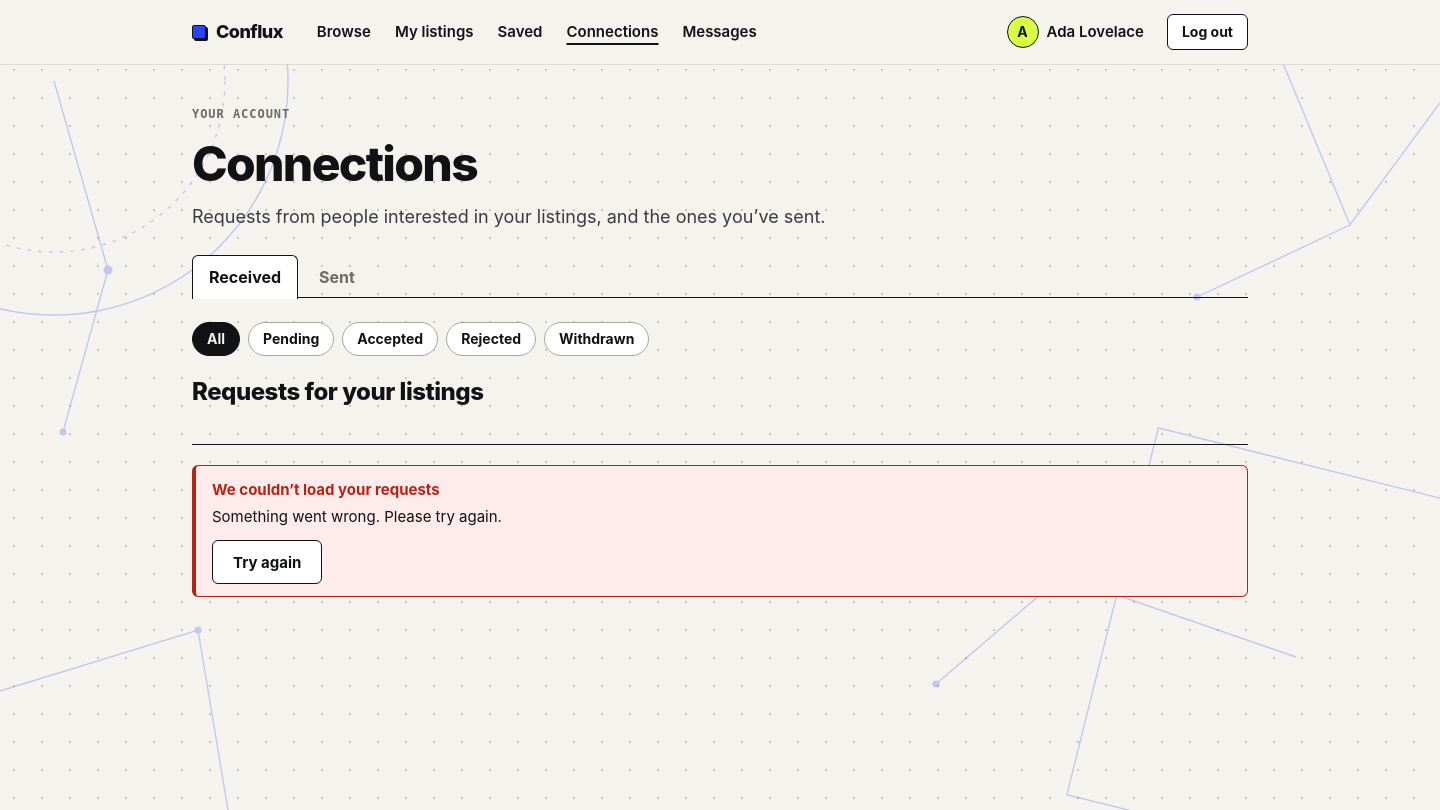
Received requests › shows an error without backend details, with a working retry
Check: the message that starts with "We couldn’t load your requests" is shown, box [212,480,440,499]
Check: the message that starts with "We couldn’t load your requests" shows "Something went wrong. Please try again.", box [212,507,502,526]
Click the button "Try again": (267, 562) [212,540,322,584]
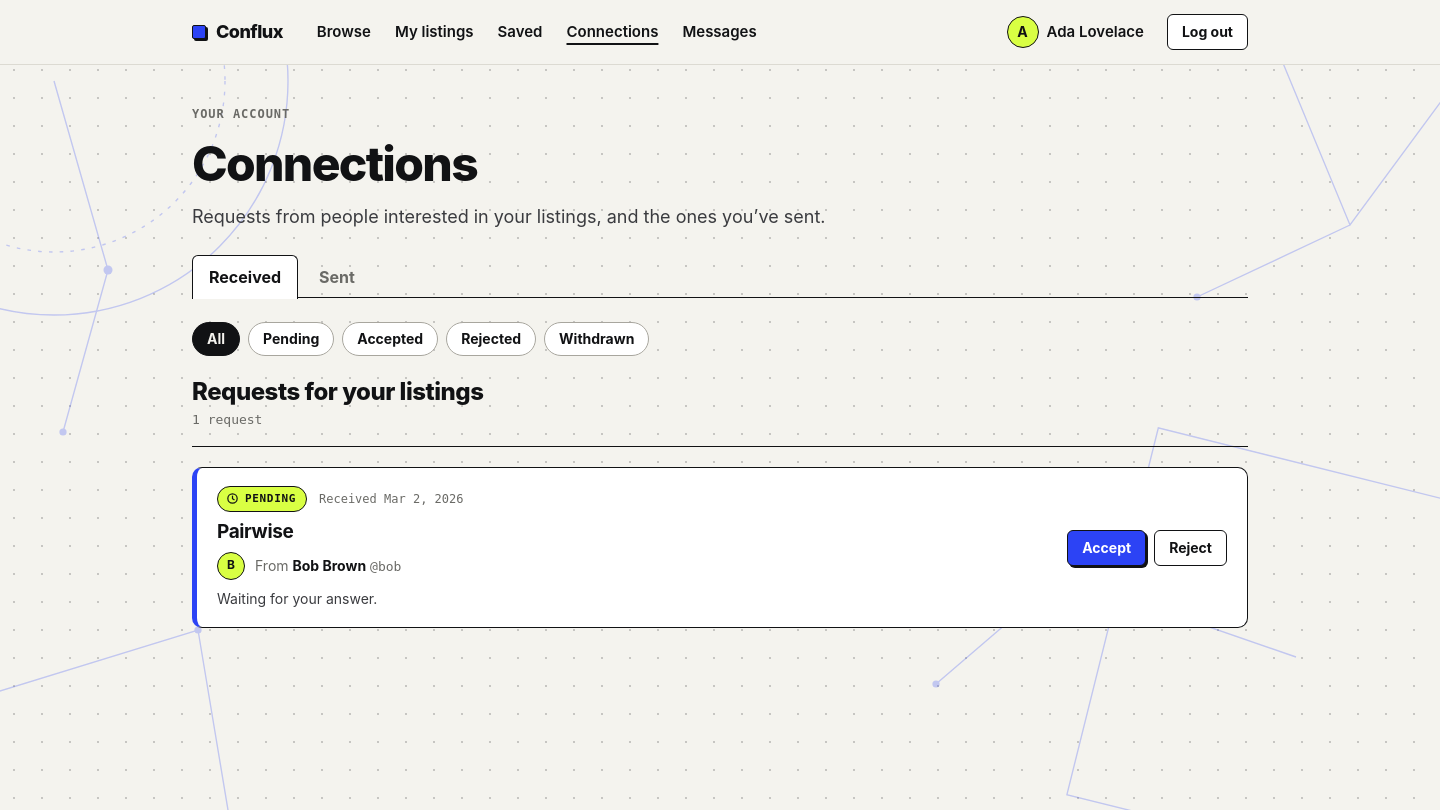
Check: the heading "Pairwise" is shown, box [217,520,293,543]
